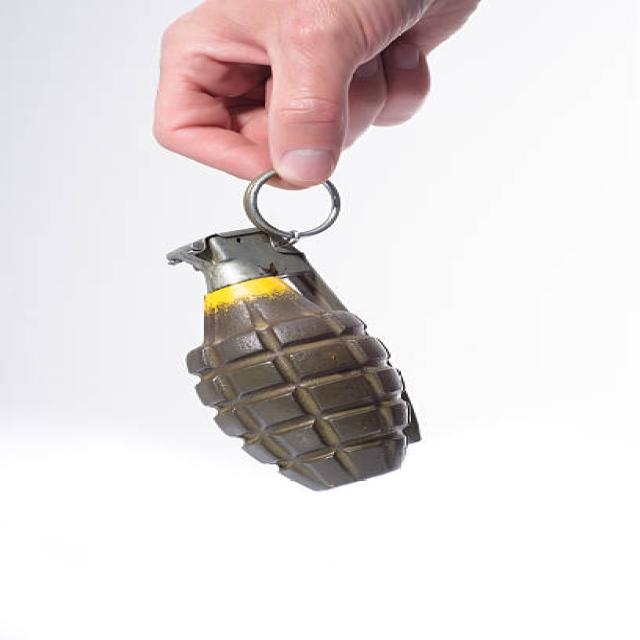grenade: (154, 167, 429, 499)
